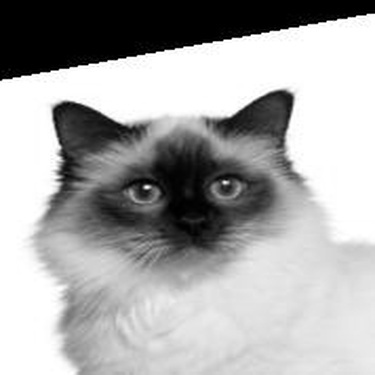cat: (37, 91, 367, 369)
